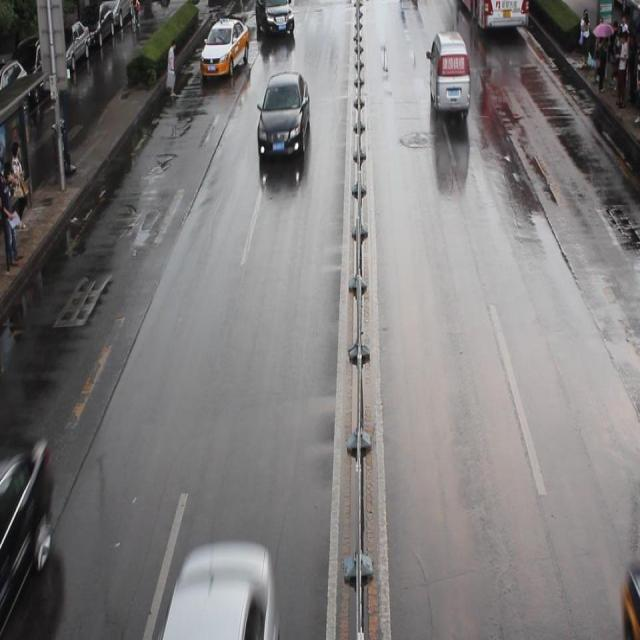car: (162, 534, 277, 640), (1, 436, 55, 640), (256, 70, 310, 163), (200, 17, 248, 78), (617, 553, 640, 640), (254, 2, 294, 34)
truck: (425, 30, 469, 110)
van: (456, 1, 528, 32)
